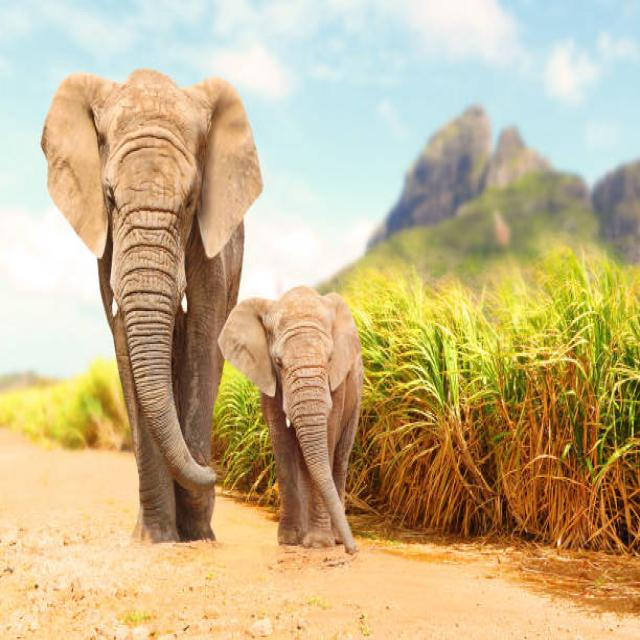Elephant: (38, 34, 254, 564), (212, 264, 382, 575)
